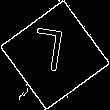L_S: (35, 27, 75, 83)
